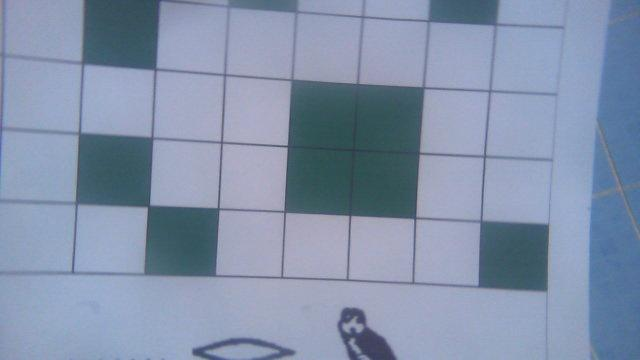Mouth: (187, 332, 296, 360)
Owl: (333, 305, 402, 360)
